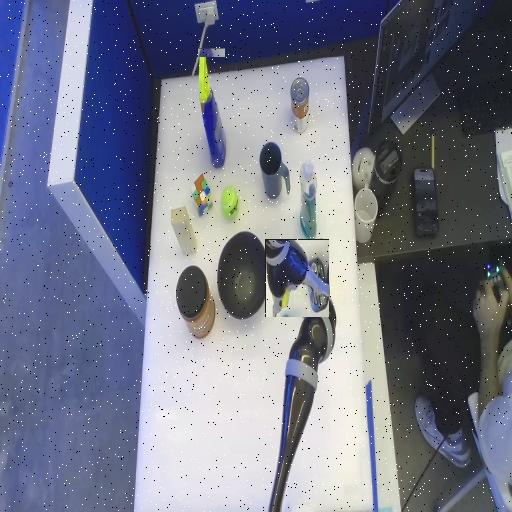bowl: (217, 250, 268, 302)
cleanser: (300, 161, 316, 241)
coffee_can: (176, 267, 214, 338)
jaco: (266, 239, 329, 317)
meat_can: (267, 244, 289, 298)
mug: (259, 143, 289, 199)
mustard_bottle: (305, 273, 324, 292)
rubik: (190, 185, 212, 207)
soup_can: (290, 97, 308, 115)
tennis_ball: (221, 195, 238, 212)
windex: (198, 49, 225, 167)
wooden_block: (170, 219, 195, 244)
workspace: (135, 57, 372, 509)
